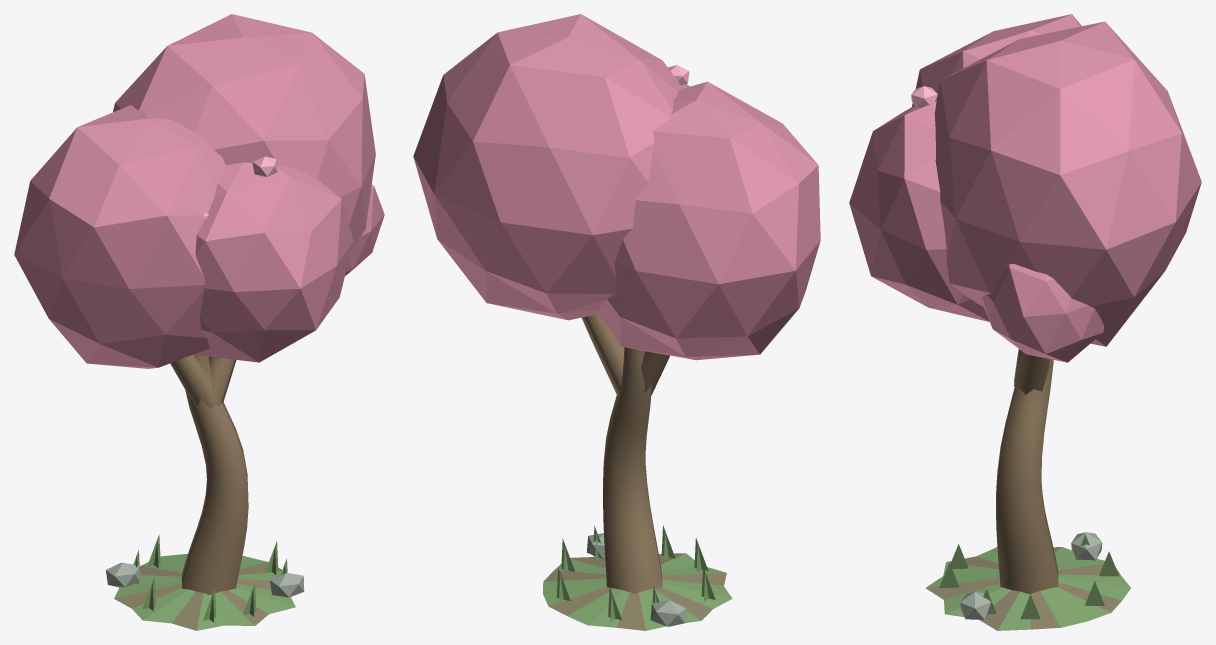
File: flowering_rose.glb
3 renders of one model, left to right at view 1: azimuth 30°, elevation 25°; view 2: azimuth 150°, elevation 25°; view 3: azimuth 270°, elevation 25°, orthographic. The views are drawn at different scales.
Parts seen in each view (by area): view 1: VR faceted leaf cluster; view 2: VR faceted leaf cluster; view 3: VR faceted leaf cluster.
Boxes of the visible parts, <box> form: VR faceted leaf cluster: <box>14,14,384,630</box>; VR faceted leaf cluster: <box>413,14,820,630</box>; VR faceted leaf cluster: <box>849,14,1201,630</box>.
Size of the model in its own units: 5.16 by 7.51 by 4.12.
